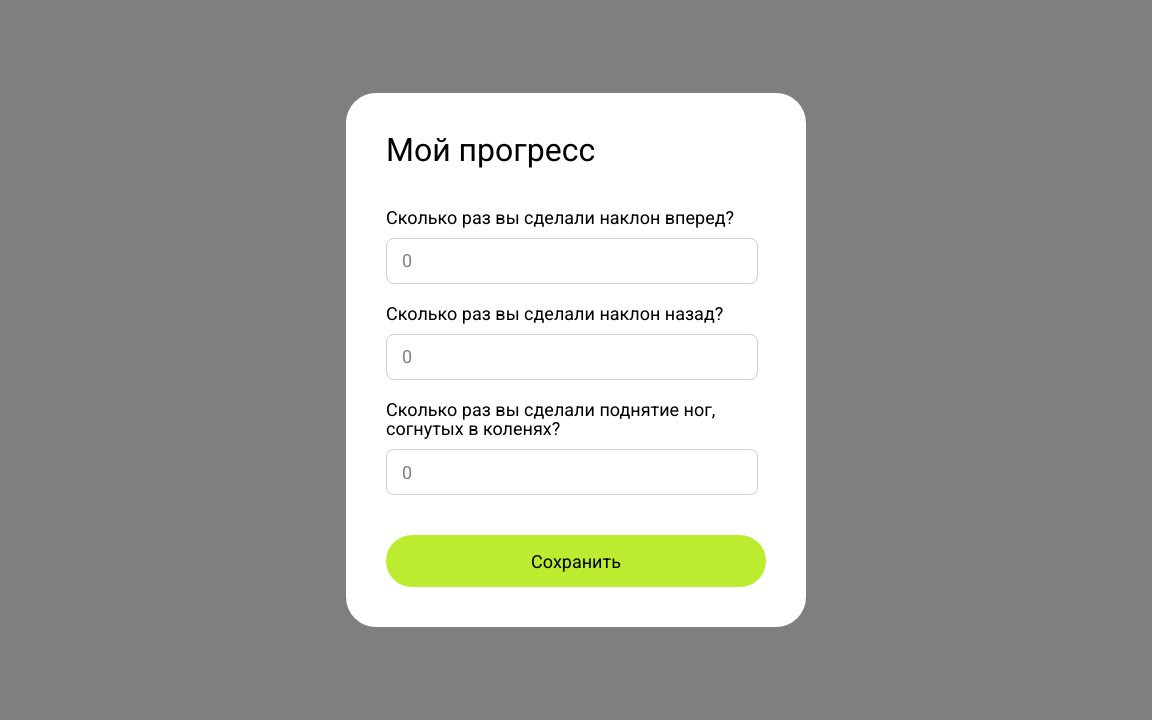
Движок заполнения прогресса (ProgressModal) › Ограничивает ввод числа максимумом упражнения (защита от 101% прогресса)
Type "61" into the number field with placeholder "0" below "наклон вперед".
click(572, 261); type("61")  # box x1=386 y1=238 x2=758 y2=284
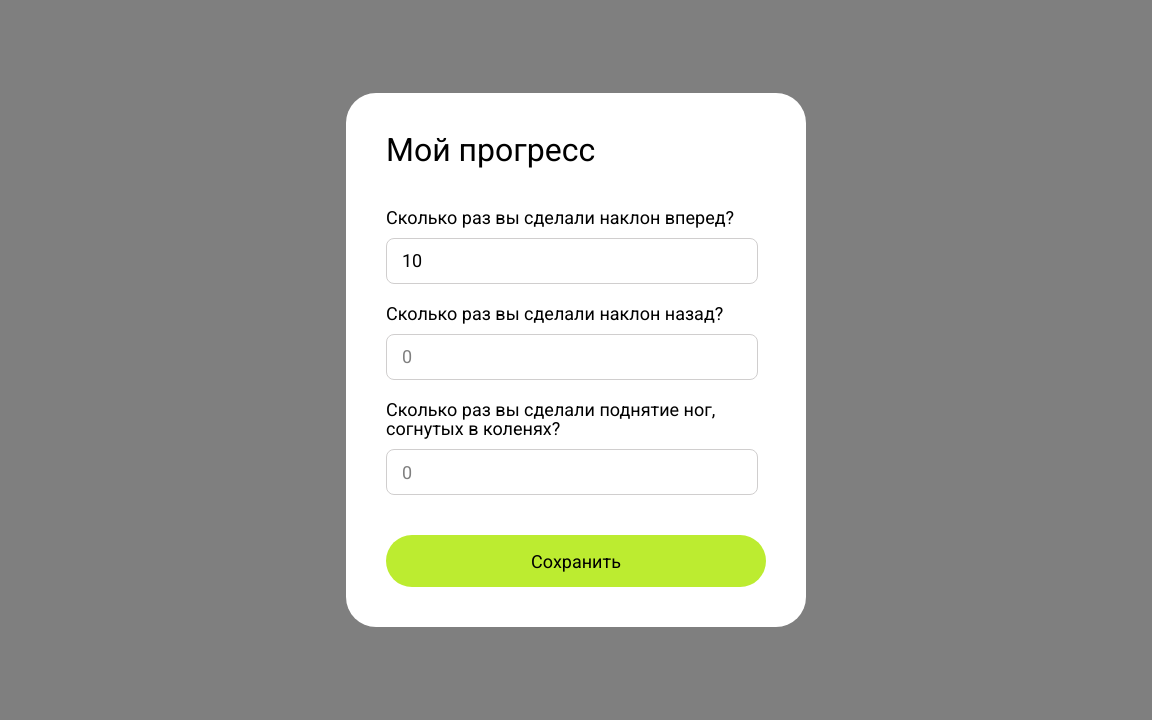
Now the number field with placeholder "0" holds "10", box x1=386 y1=238 x2=758 y2=284
// Пытаемся ввести отрицательное число
Type "-5" into the number field with placeholder "0" below "наклон назад".
click(572, 357); type("-5")  # box x1=386 y1=334 x2=758 y2=380
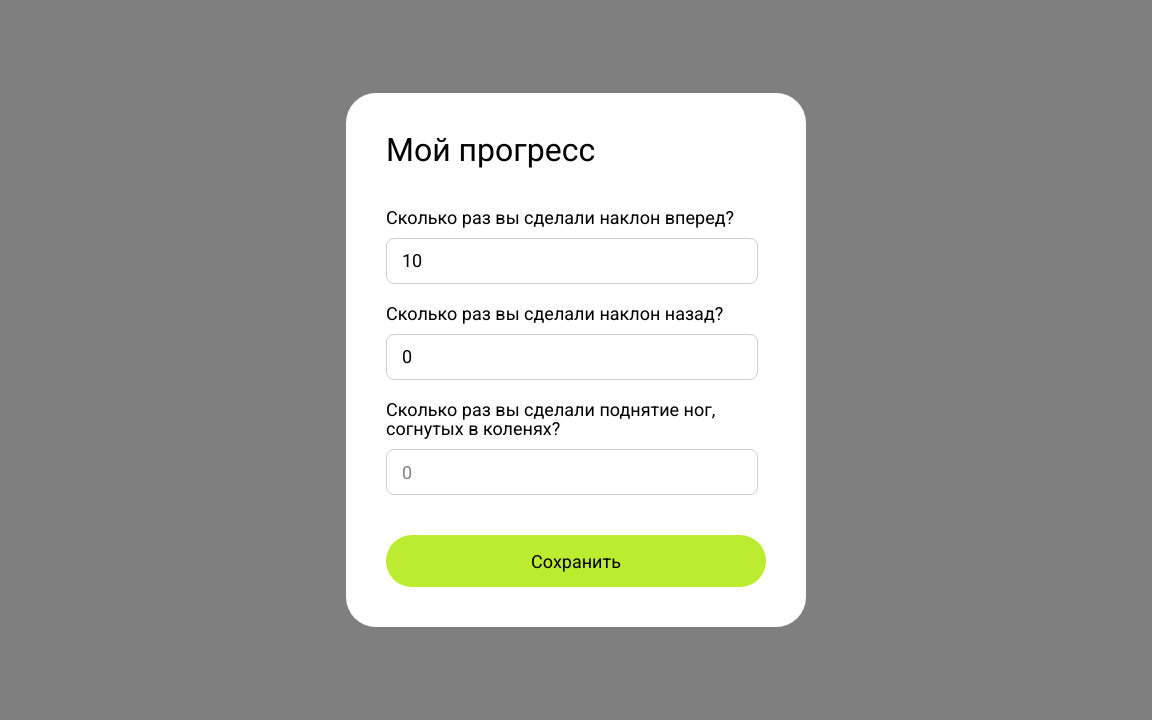
Now the number field with placeholder "0" below "наклон назад" holds "0", box x1=386 y1=334 x2=758 y2=380
